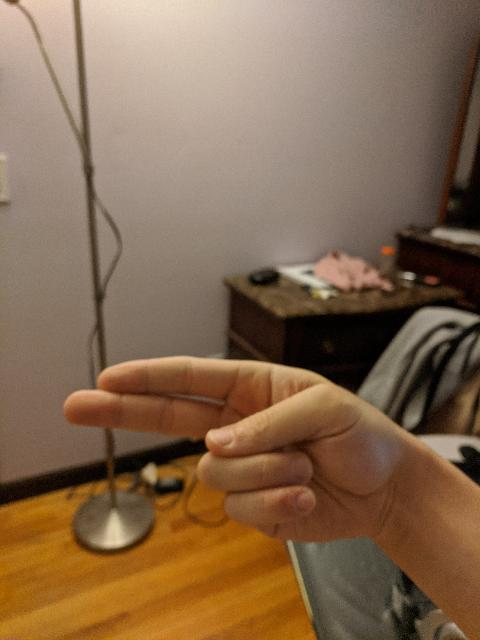H: (58, 349, 398, 546)
